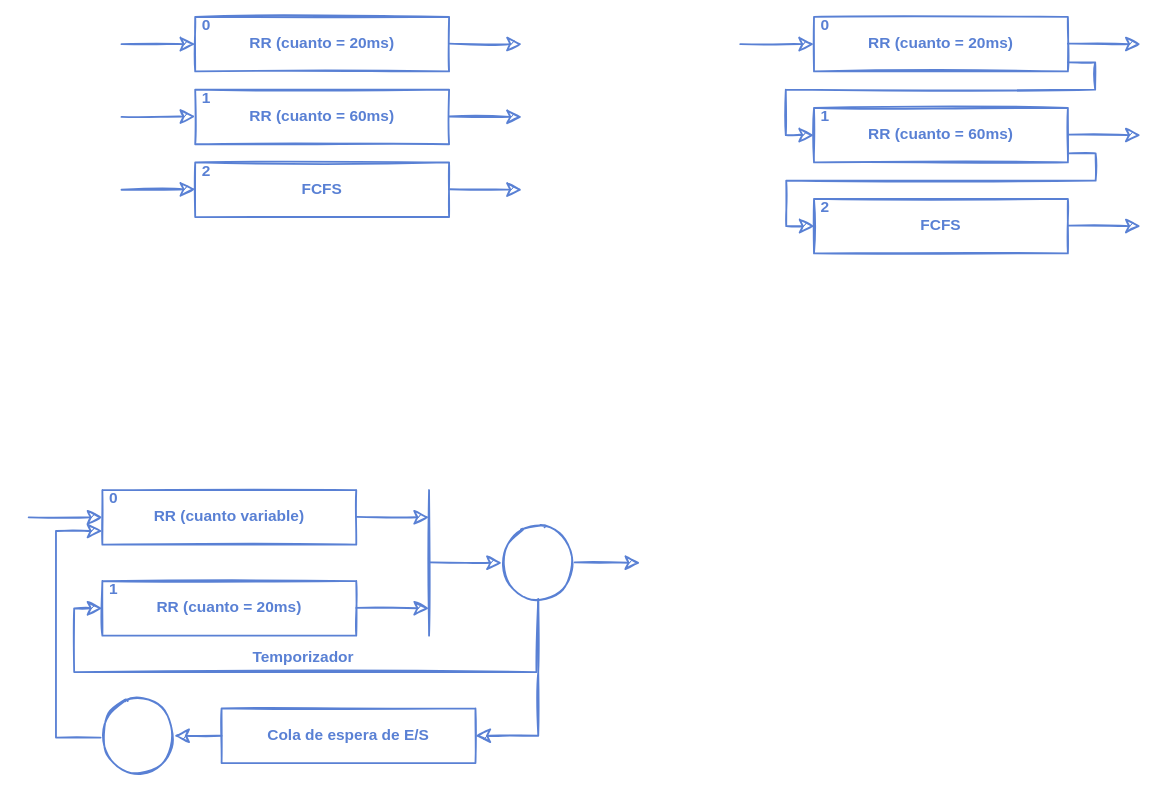
Some shapes in this 1169 by 788 pixel diagram are drawn without their labels. Each missing label, with the centre of its shape:
"CPU" goes at [537,562].
"E/S" goes at [137,735].
